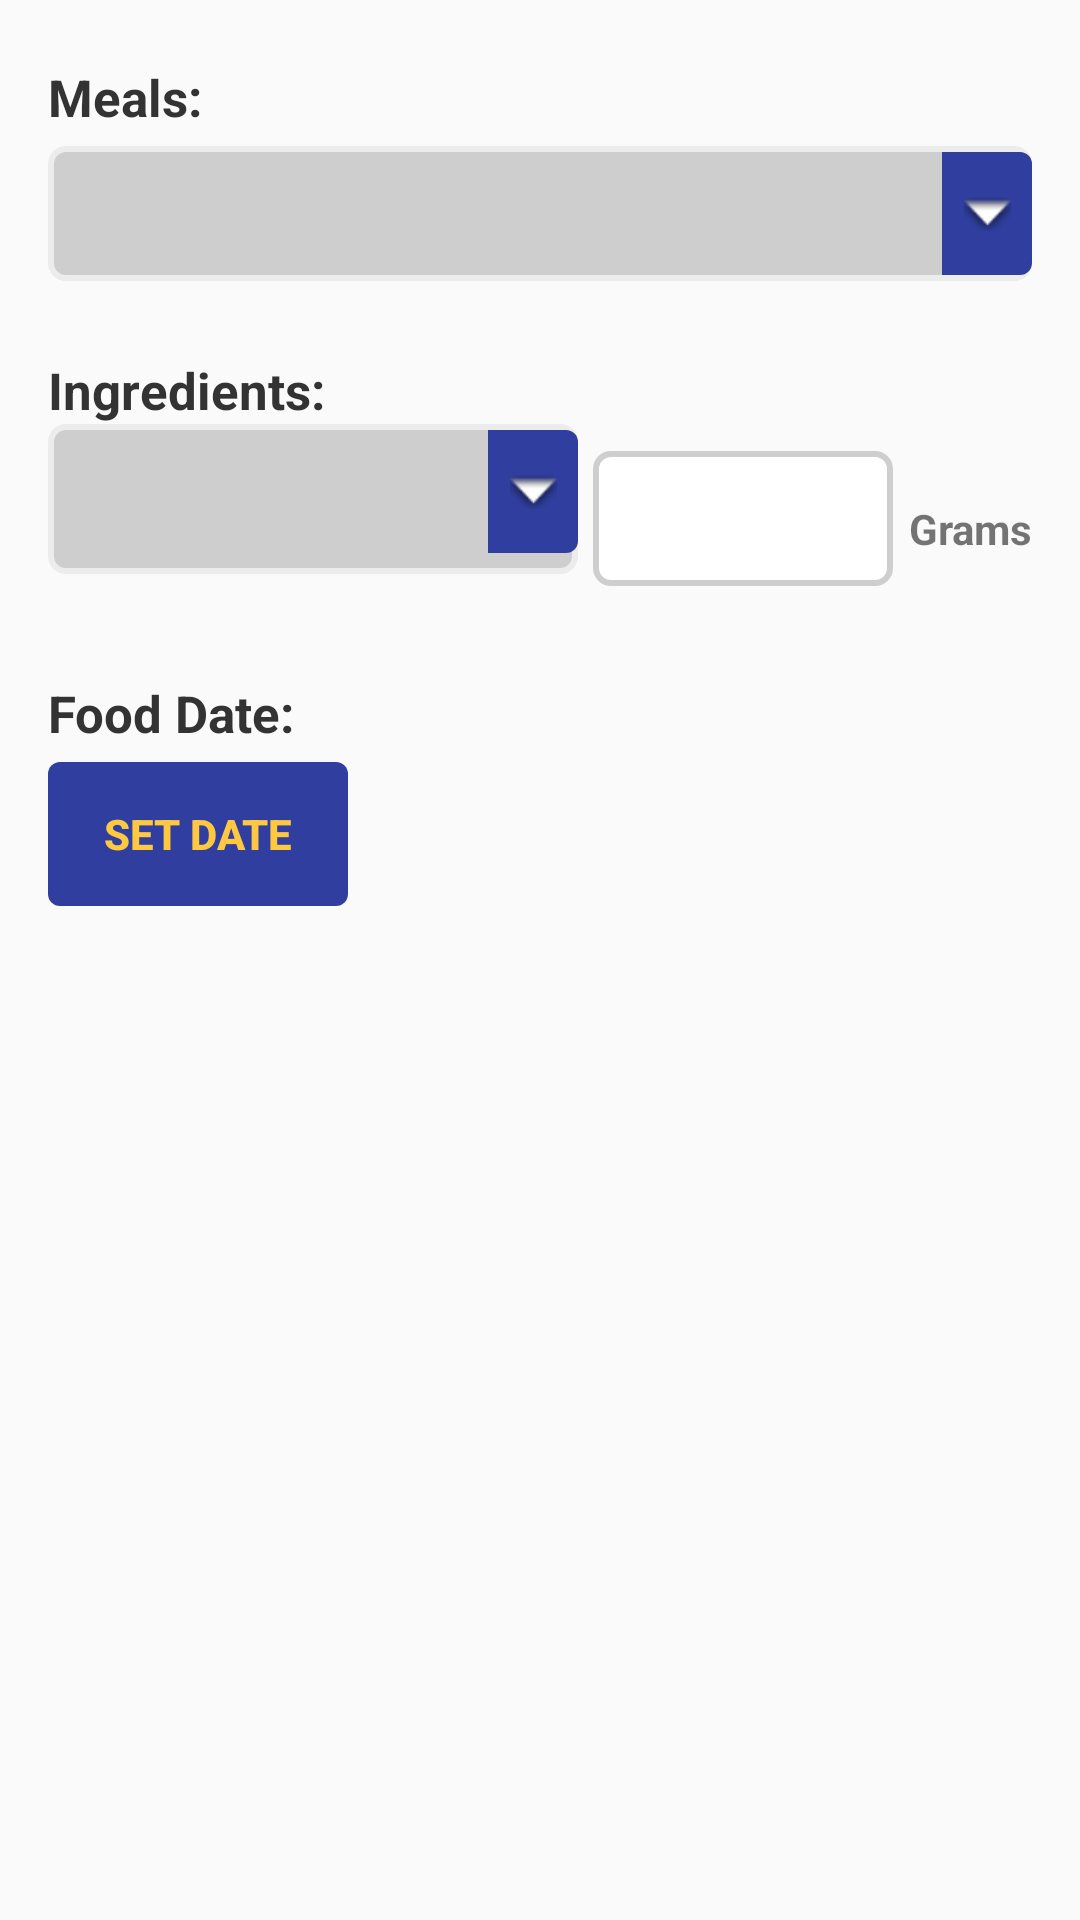

Screen size 1080px×1920px. Icon name, then its center in pixels as point (x, y):
arrow down float: point (987, 213), point (533, 491)
